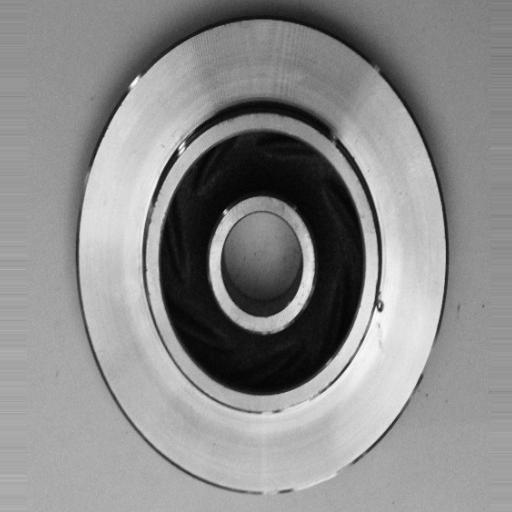crack: (369, 286, 391, 345)
scratch: (253, 459, 354, 502), (250, 385, 333, 425)
unpolished_casting: (73, 15, 447, 499)
